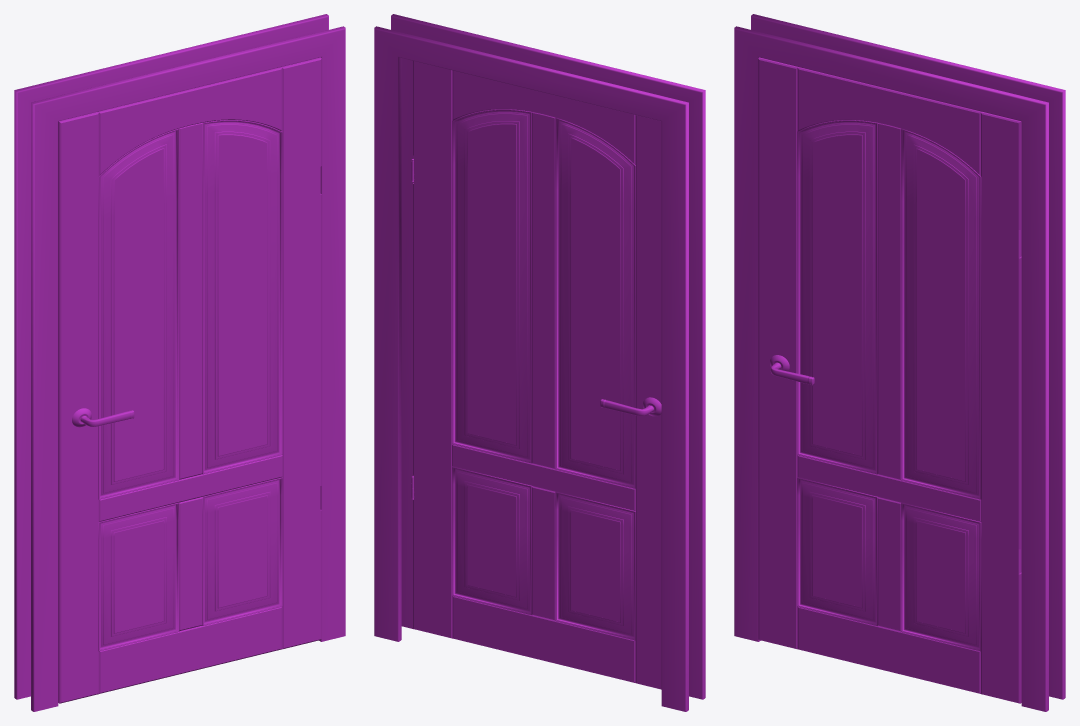
File: Doors_Game_SP3.FBX
3 views of the same model, side by side, from view 1: azimuth 30°, elevation 25°; view 2: azimuth 150°, elevation 25°; view 3: azimuth 330°, elevation 25° (orthographic).
Visible parts, largest first — view 1: Door001_Unwrapped, Plinth001_Unwrapped; view 2: Door001_Unwrapped, Plinth001_Unwrapped; view 3: Door001_Unwrapped, Plinth001_Unwrapped.
Part boxes in pixels (x1,y1,x2,y2): Door001_Unwrapped: (58,57,321,703); Plinth001_Unwrapped: (14,14,345,711); Door001_Unwrapped: (413,61,661,689); Plinth001_Unwrapped: (374,14,705,711); Door001_Unwrapped: (758,57,1021,703); Plinth001_Unwrapped: (734,14,1065,711).
Bounding box in the file's own units: 128 × 238 × 22.21.
